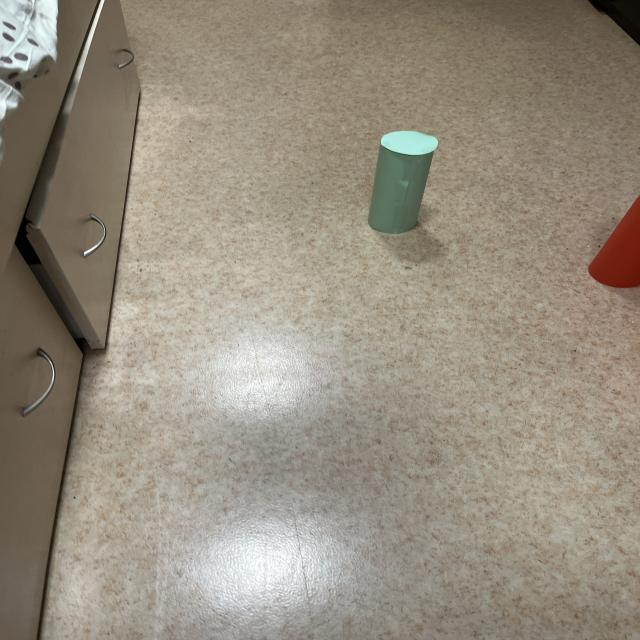meta: (368, 131, 437, 234)
